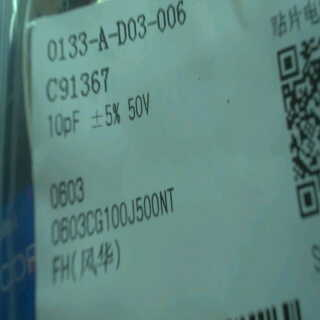10pF: (41, 106, 86, 141)
